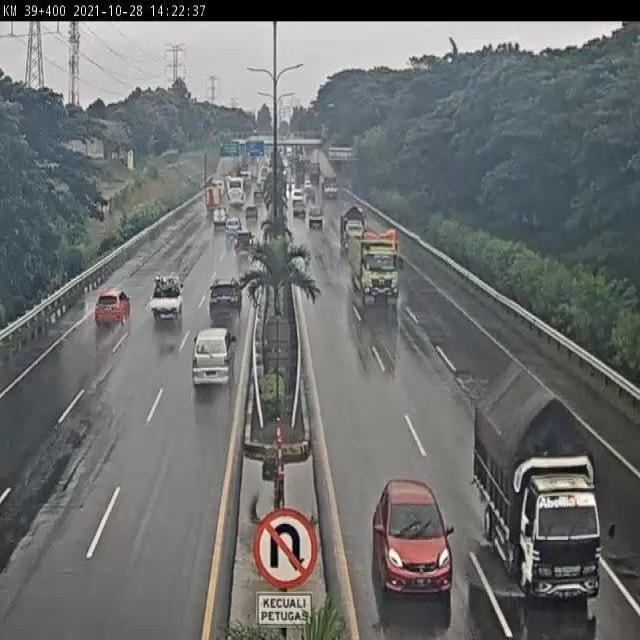car: (151, 274, 182, 318)
truck-l-: (349, 232, 403, 307)
truck-s-: (476, 353, 604, 603), (340, 205, 367, 256)
